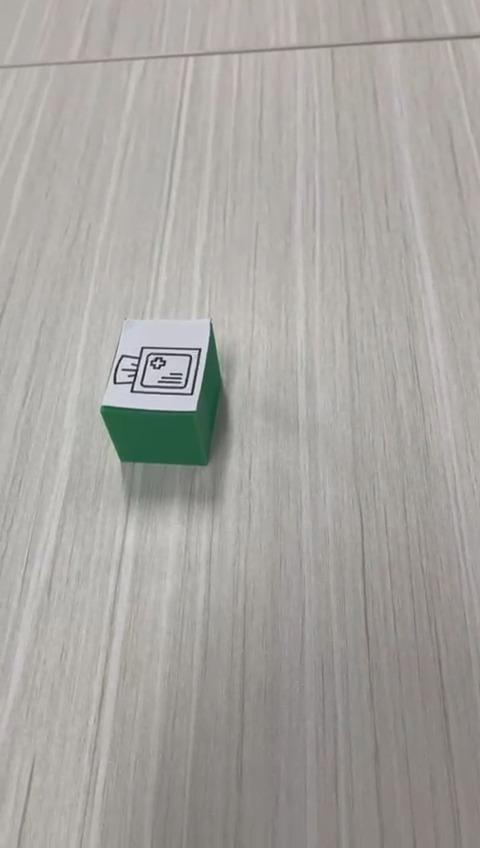Gauze: (99, 316, 222, 467)
